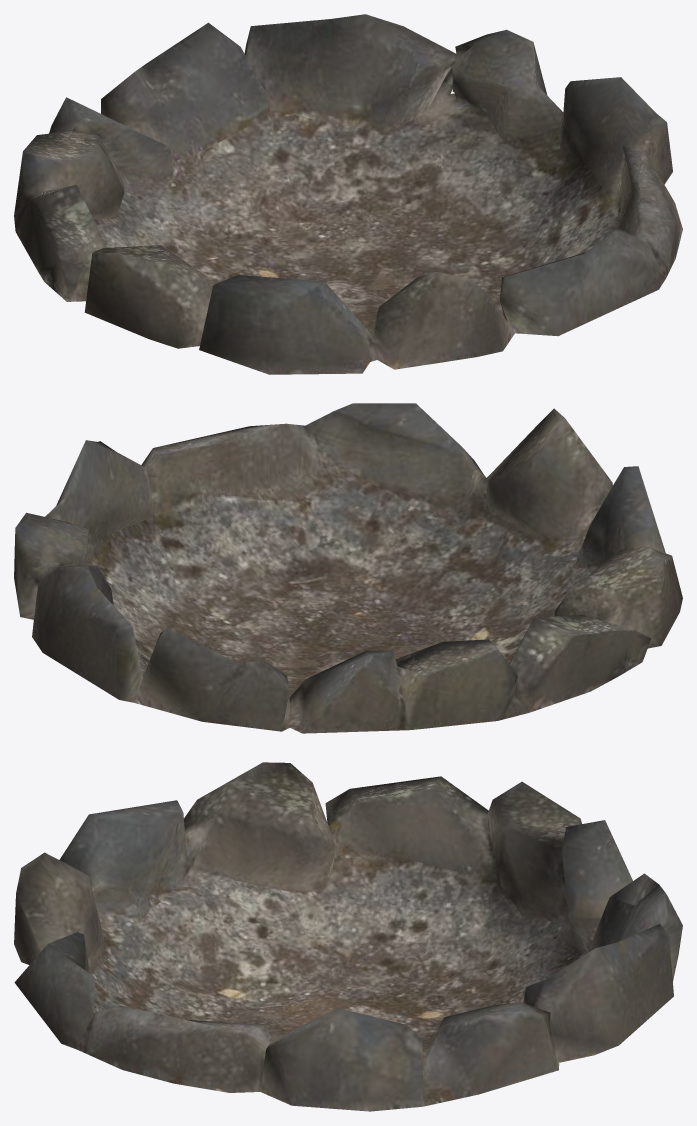
Rendered from firepit.glb.
3 views of the same model, one above another, from view 1: azimuth 30°, elevation 25°; view 2: azimuth 150°, elevation 25°; view 3: azimuth 270°, elevation 25° (orthographic).
Parts seen in each view (by area): view 1: stone_fire_pit; view 2: stone_fire_pit; view 3: stone_fire_pit.
Part boxes in pixels (x1,y1,x2,y2): stone_fire_pit: [14, 14, 682, 374]; stone_fire_pit: [14, 403, 682, 733]; stone_fire_pit: [14, 762, 682, 1111].
Size of the model in its own units: 1.44 by 0.376 by 1.43.
1 material, 1 textured.
